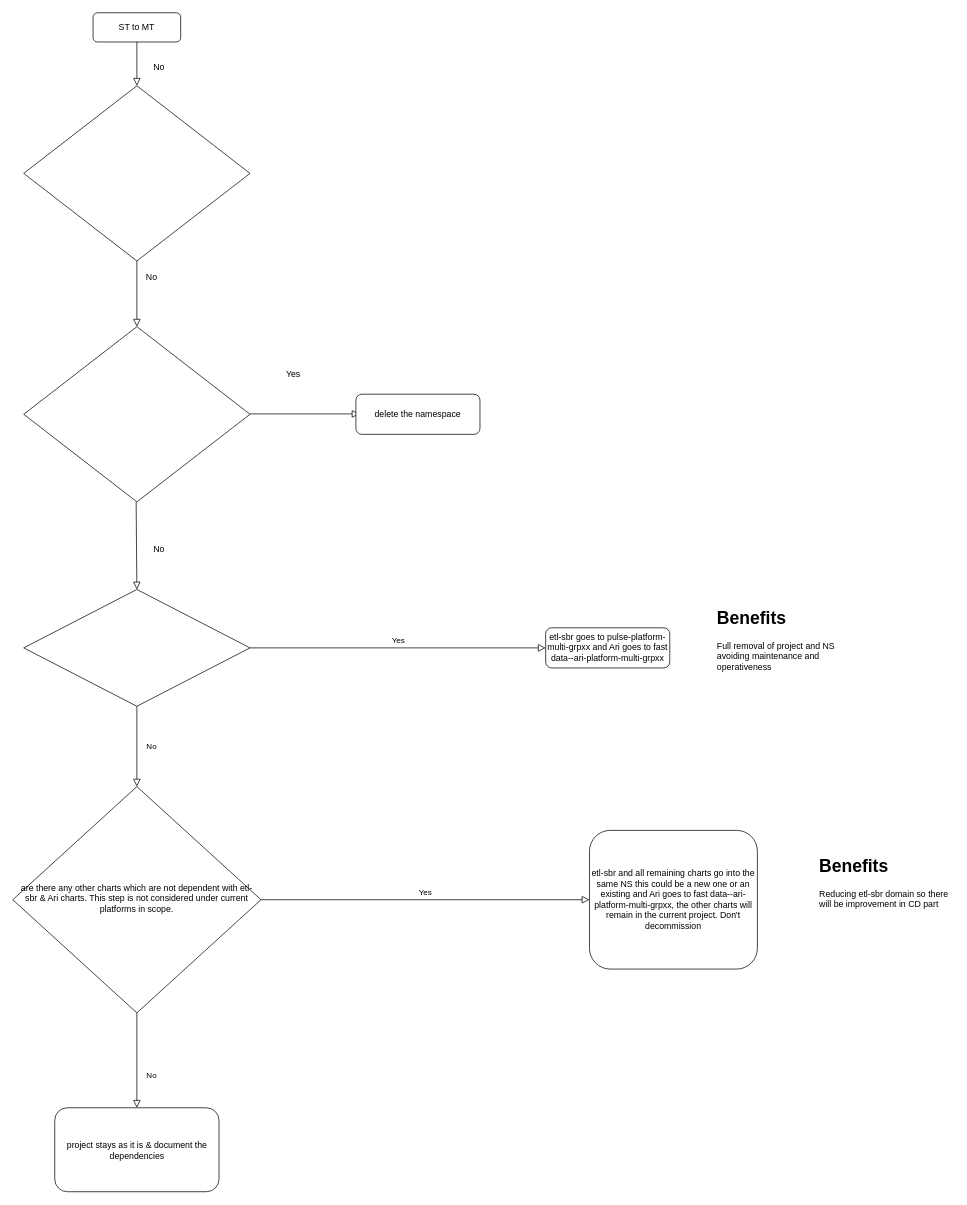
The diagram is 967 pixels wide and 1205 high, and some of its shapes have lost their labels. The centre of each missing label's shape, as x and y in pixels:
"can the namespace be deleted?" belongs at (x=136, y=414).
"Only etl-sbr & Ari charts are present in the bitbucket repository?" belongs at (x=136, y=647).
"scaling down pods and retention time period set to 100ms in test platforms" belongs at (x=136, y=173).
